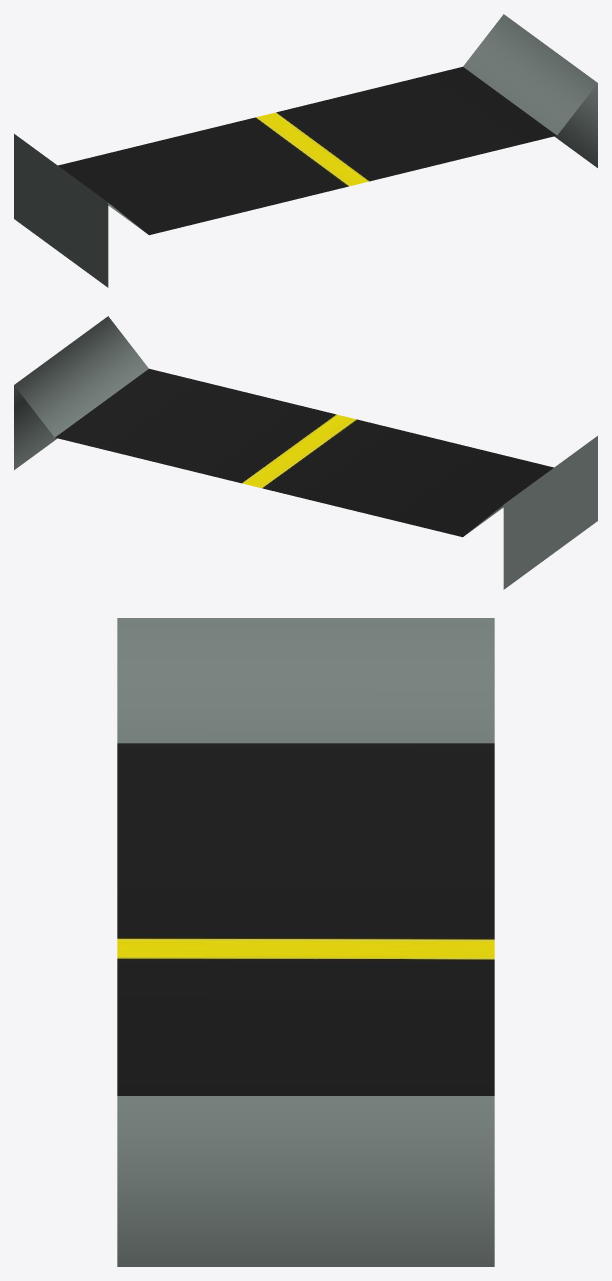
Rendered from lane_straight_4.fbx.
3 renders of one model, top to bottom at view 1: azimuth 30°, elevation 25°; view 2: azimuth 150°, elevation 25°; view 3: azimuth 270°, elevation 25°, orthographic. The views are drawn at different scales.
Parts seen in each view (by area): view 1: lane_straight_4_01; view 2: lane_straight_4_01; view 3: lane_straight_4_01.
Part boxes in pixels (left/top/right/bottom): lane_straight_4_01: left=14, top=14, right=597, bottom=287; lane_straight_4_01: left=14, top=316, right=597, bottom=589; lane_straight_4_01: left=117, top=618, right=494, bottom=1266.
Size of the model in its own units: 24 by 4 by 8.
